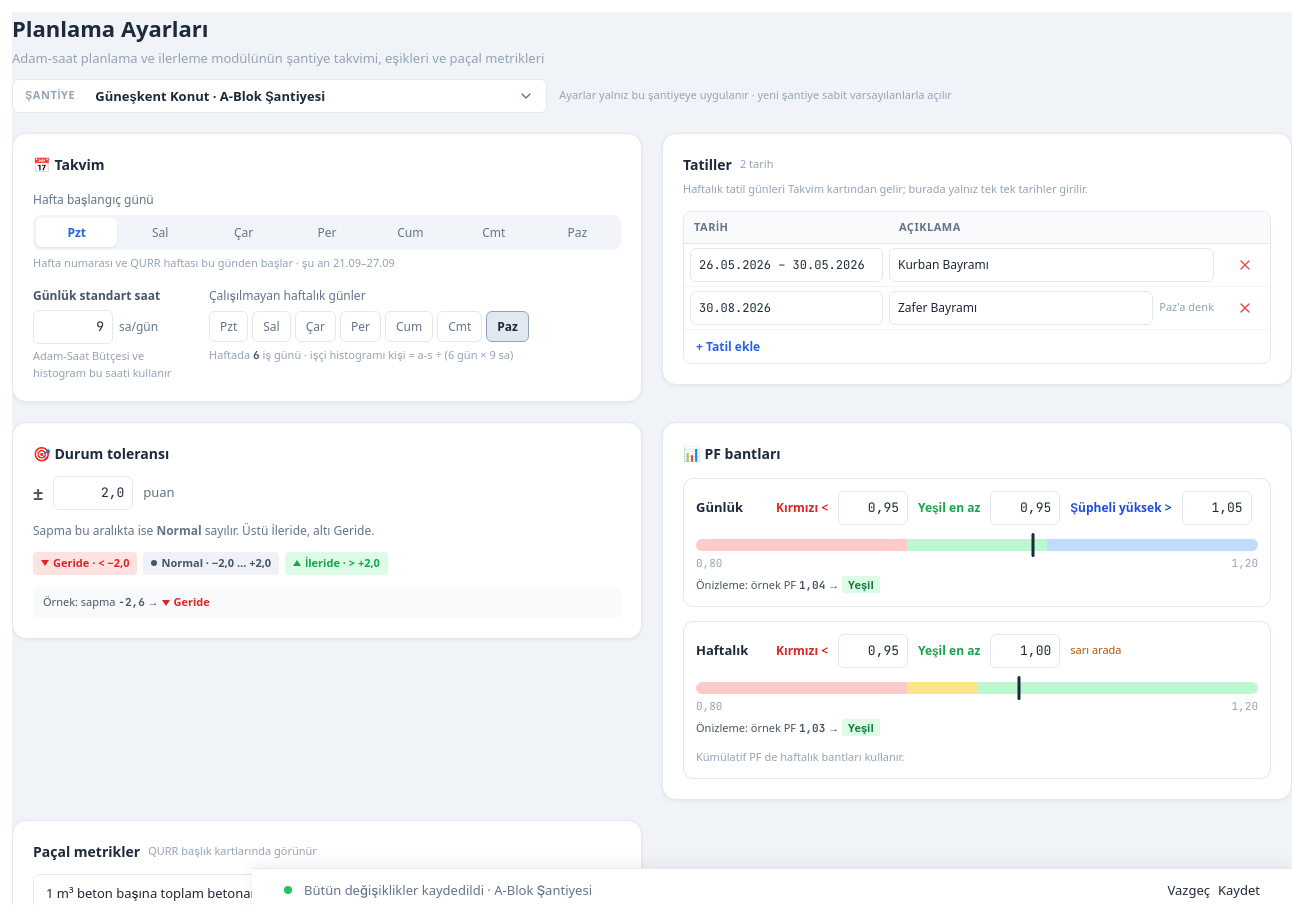
Scenario: PlanningSettingsScreen · önizleme (pfBand / varianceStatus) › tolerans önizlemesi: −2,6 örneği 2,0'da Geride, 3'te Normal
Check: the field showing "Kurban Bayramı" is shown, box left=889, top=248, right=1214, bottom=282
Check: the element with test id "tolerance-preview" shows "Geride", box left=174, top=594, right=210, bottom=609
Replace the text in the field named "Durum toleransı (puan)" with "3": x=93, y=493 left=53, top=476, right=133, bottom=510
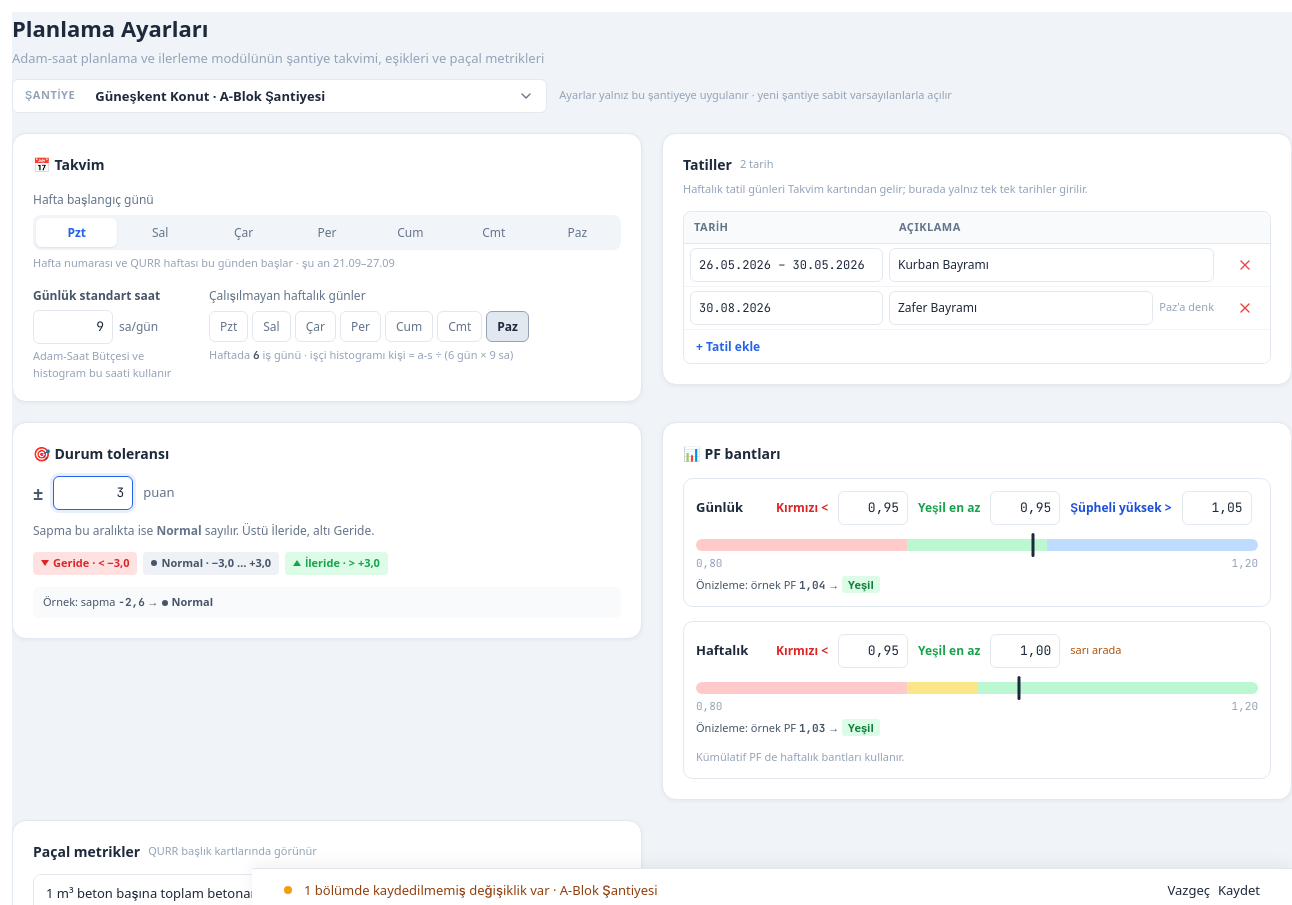
Check: the element with test id "tolerance-preview" shows "Normal", box left=172, top=594, right=213, bottom=609
Check: the text "Normal · −3,0 … +3,0" is shown, box left=144, top=552, right=279, bottom=574
